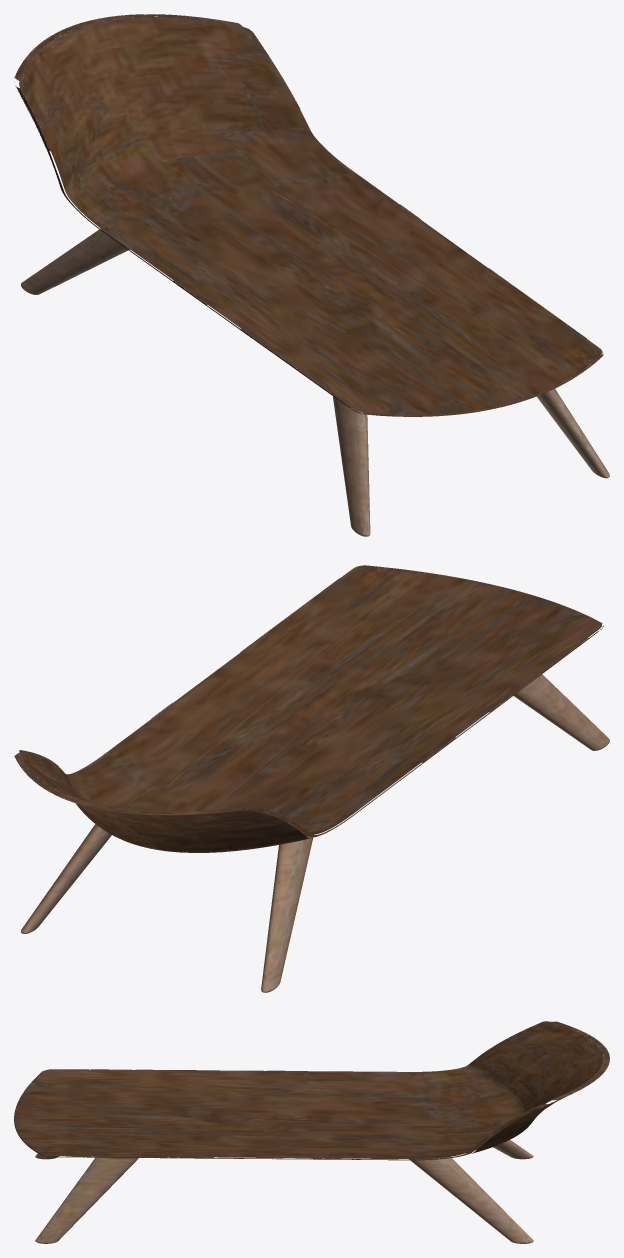
The model's file is chair_7.glb.
The picture shows the model from 3 angles, top to bottom: view 1: azimuth 30°, elevation 25°; view 2: azimuth 150°, elevation 25°; view 3: azimuth 270°, elevation 25°; orthographic projection. The views are drawn at different scales.
Parts seen in each view (by area): view 1: chair_7; view 2: chair_7; view 3: chair_7.
Part boxes in pixels (x1,y1,x2,y2): chair_7: (14,14,609,536); chair_7: (14,565,609,992); chair_7: (14,1021,609,1243).
Bounding box in the file's own units: 2.11 × 1.58 × 6.02.
1 material, 1 textured.
